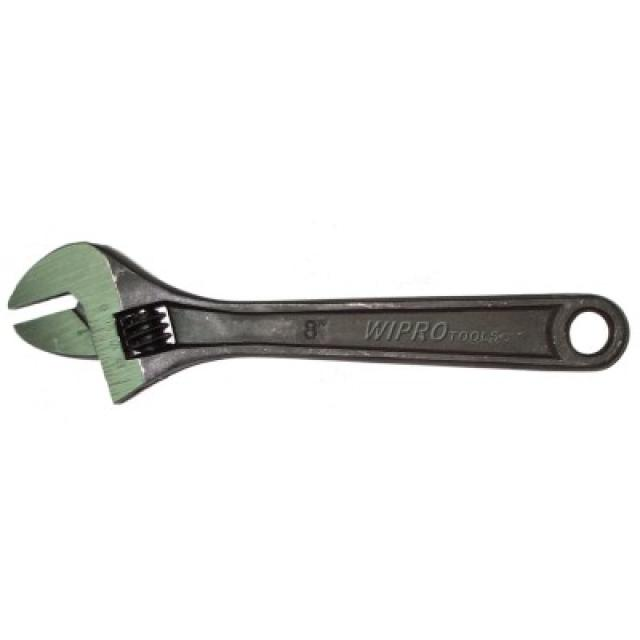wrench: (5, 213, 640, 458)
